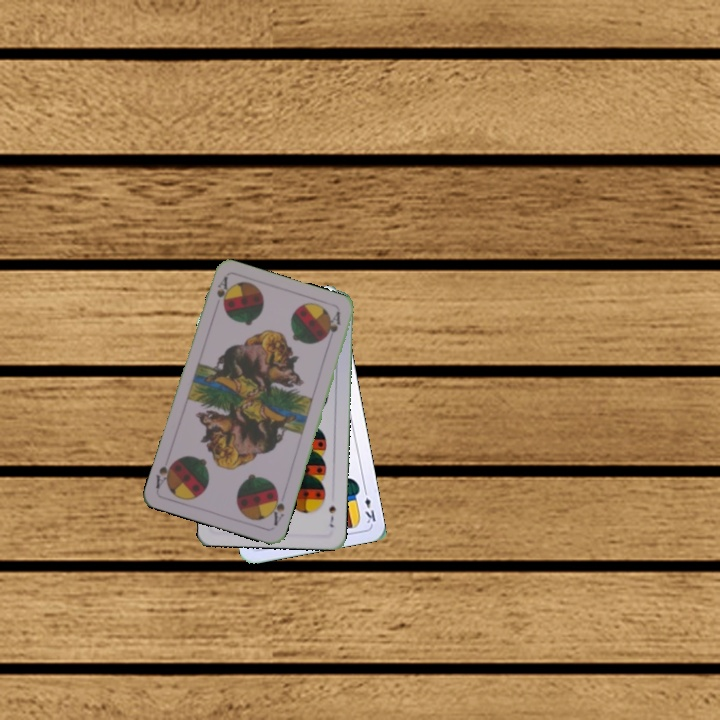EK: (360, 485, 378, 526)
S7: (325, 501, 338, 530)
SA: (266, 487, 287, 528), (213, 273, 232, 310)
